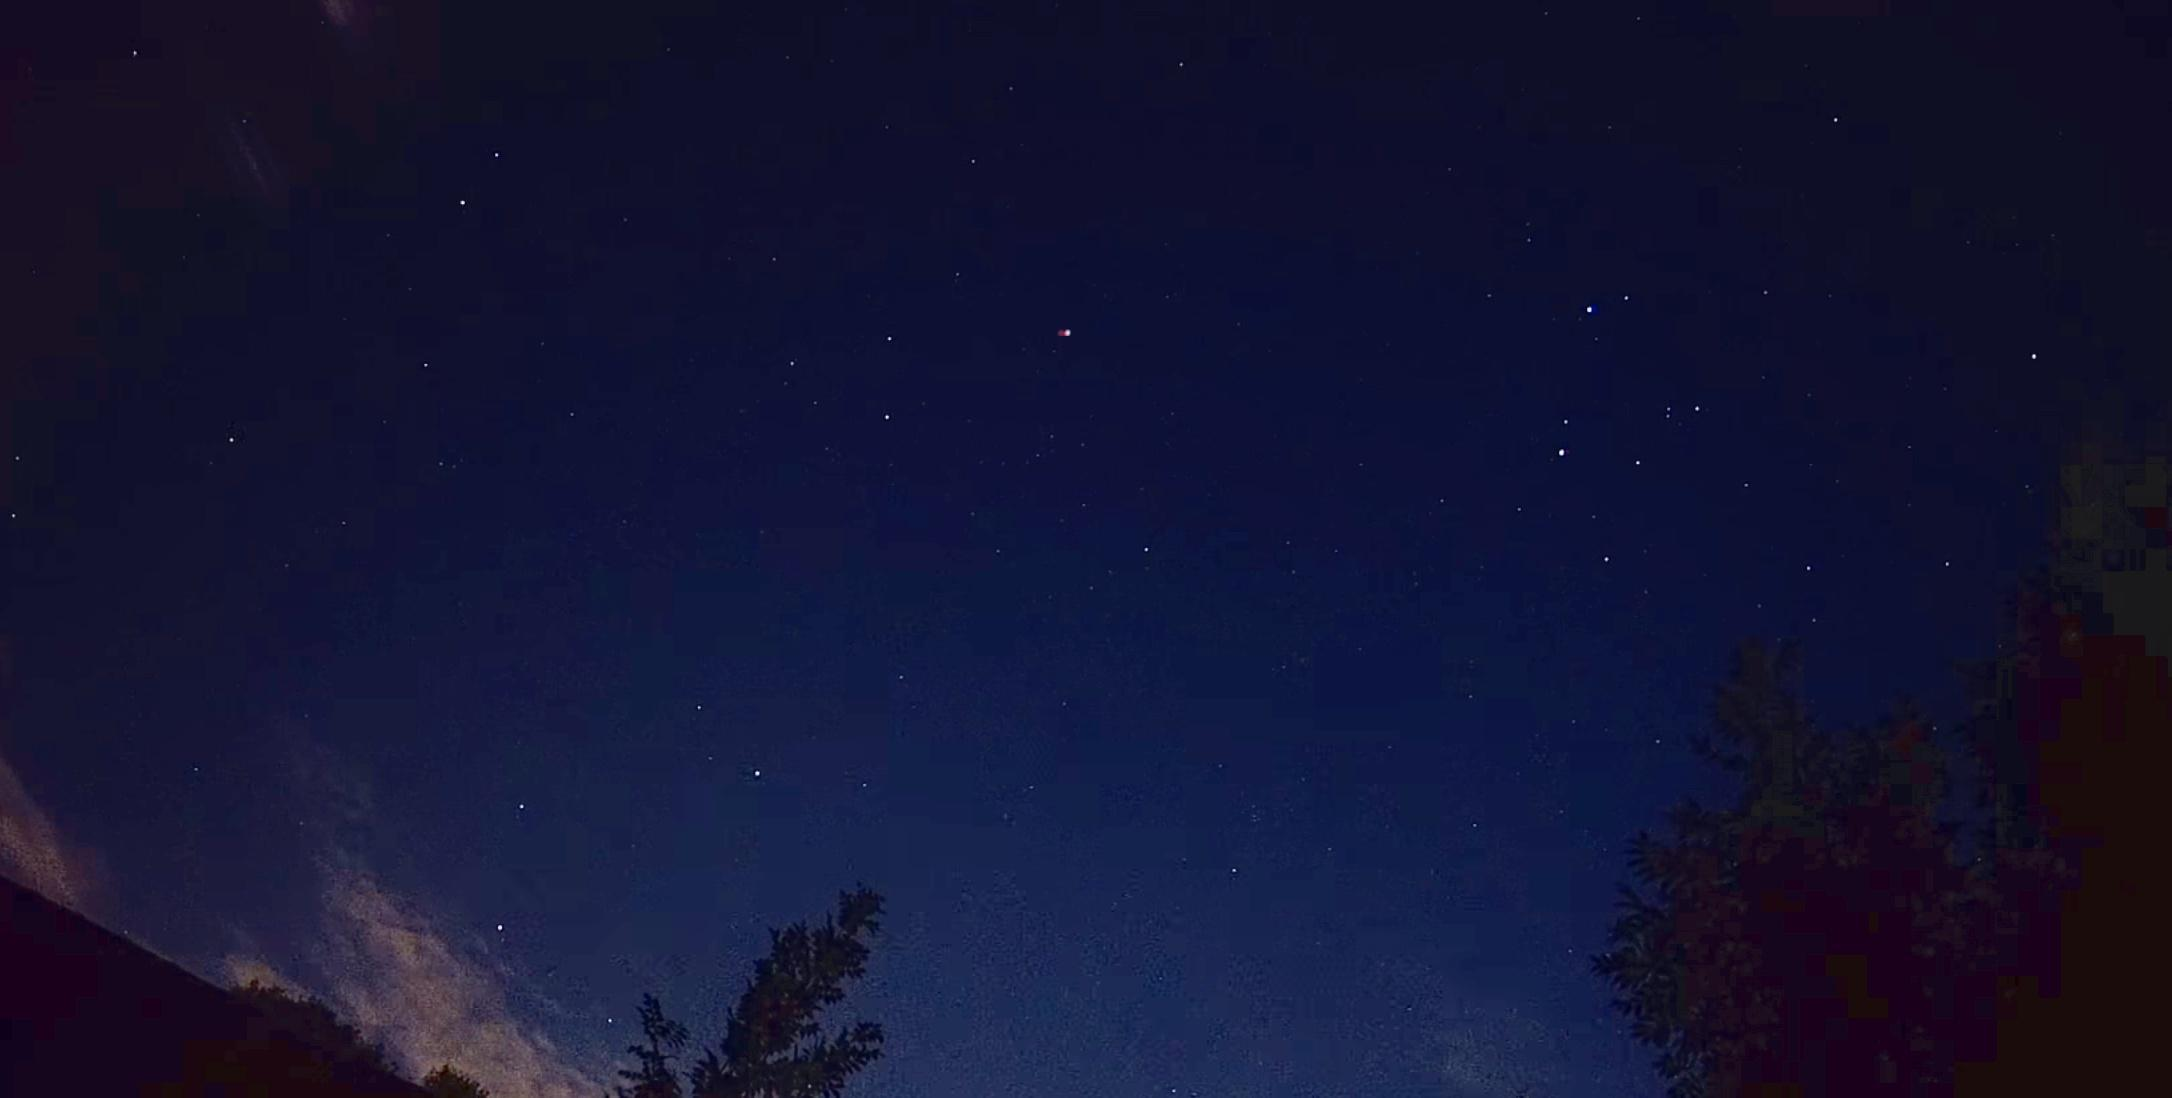Plane: (1038, 318, 1101, 343)
